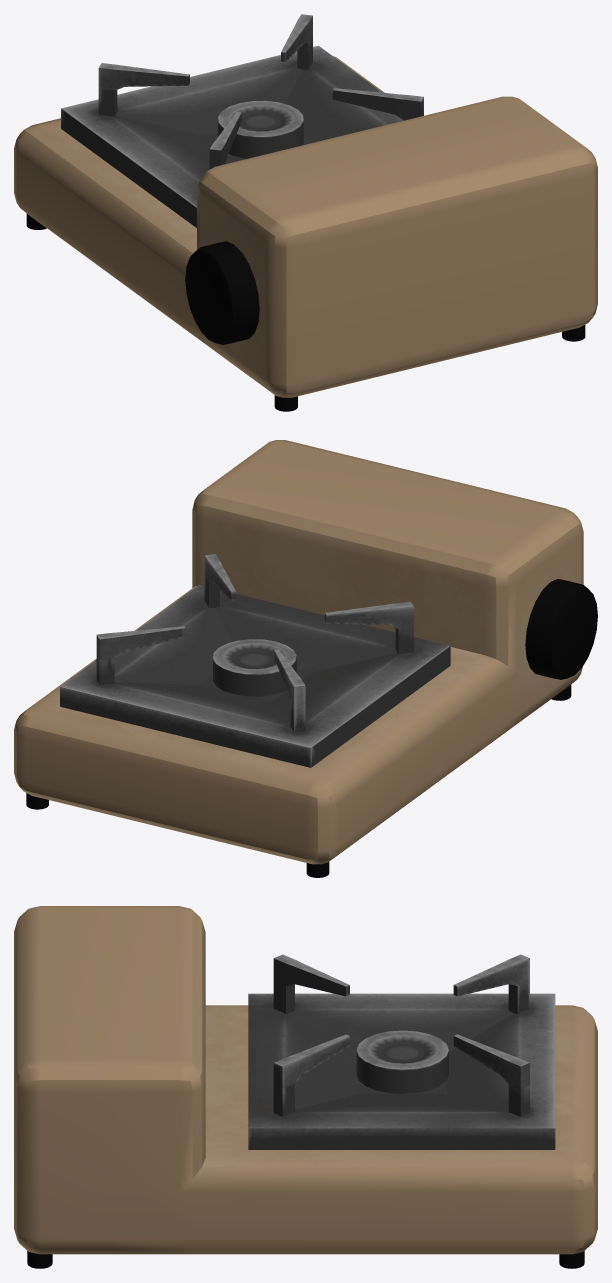
Rendered from GasStove.fbx.
3 views of the same model, one above another, from view 1: azimuth 30°, elevation 25°; view 2: azimuth 150°, elevation 25°; view 3: azimuth 270°, elevation 25° (orthographic). The views are drawn at different scales.
Parts seen in each view (by area): view 1: GasStove; view 2: GasStove; view 3: GasStove.
Part boxes in pixels (bbox=[...]): GasStove: bbox=[14, 14, 597, 411]; GasStove: bbox=[14, 440, 597, 877]; GasStove: bbox=[14, 906, 597, 1268].
Bounding box in the file's own units: 1.76 × 0.8999 × 2.33.
